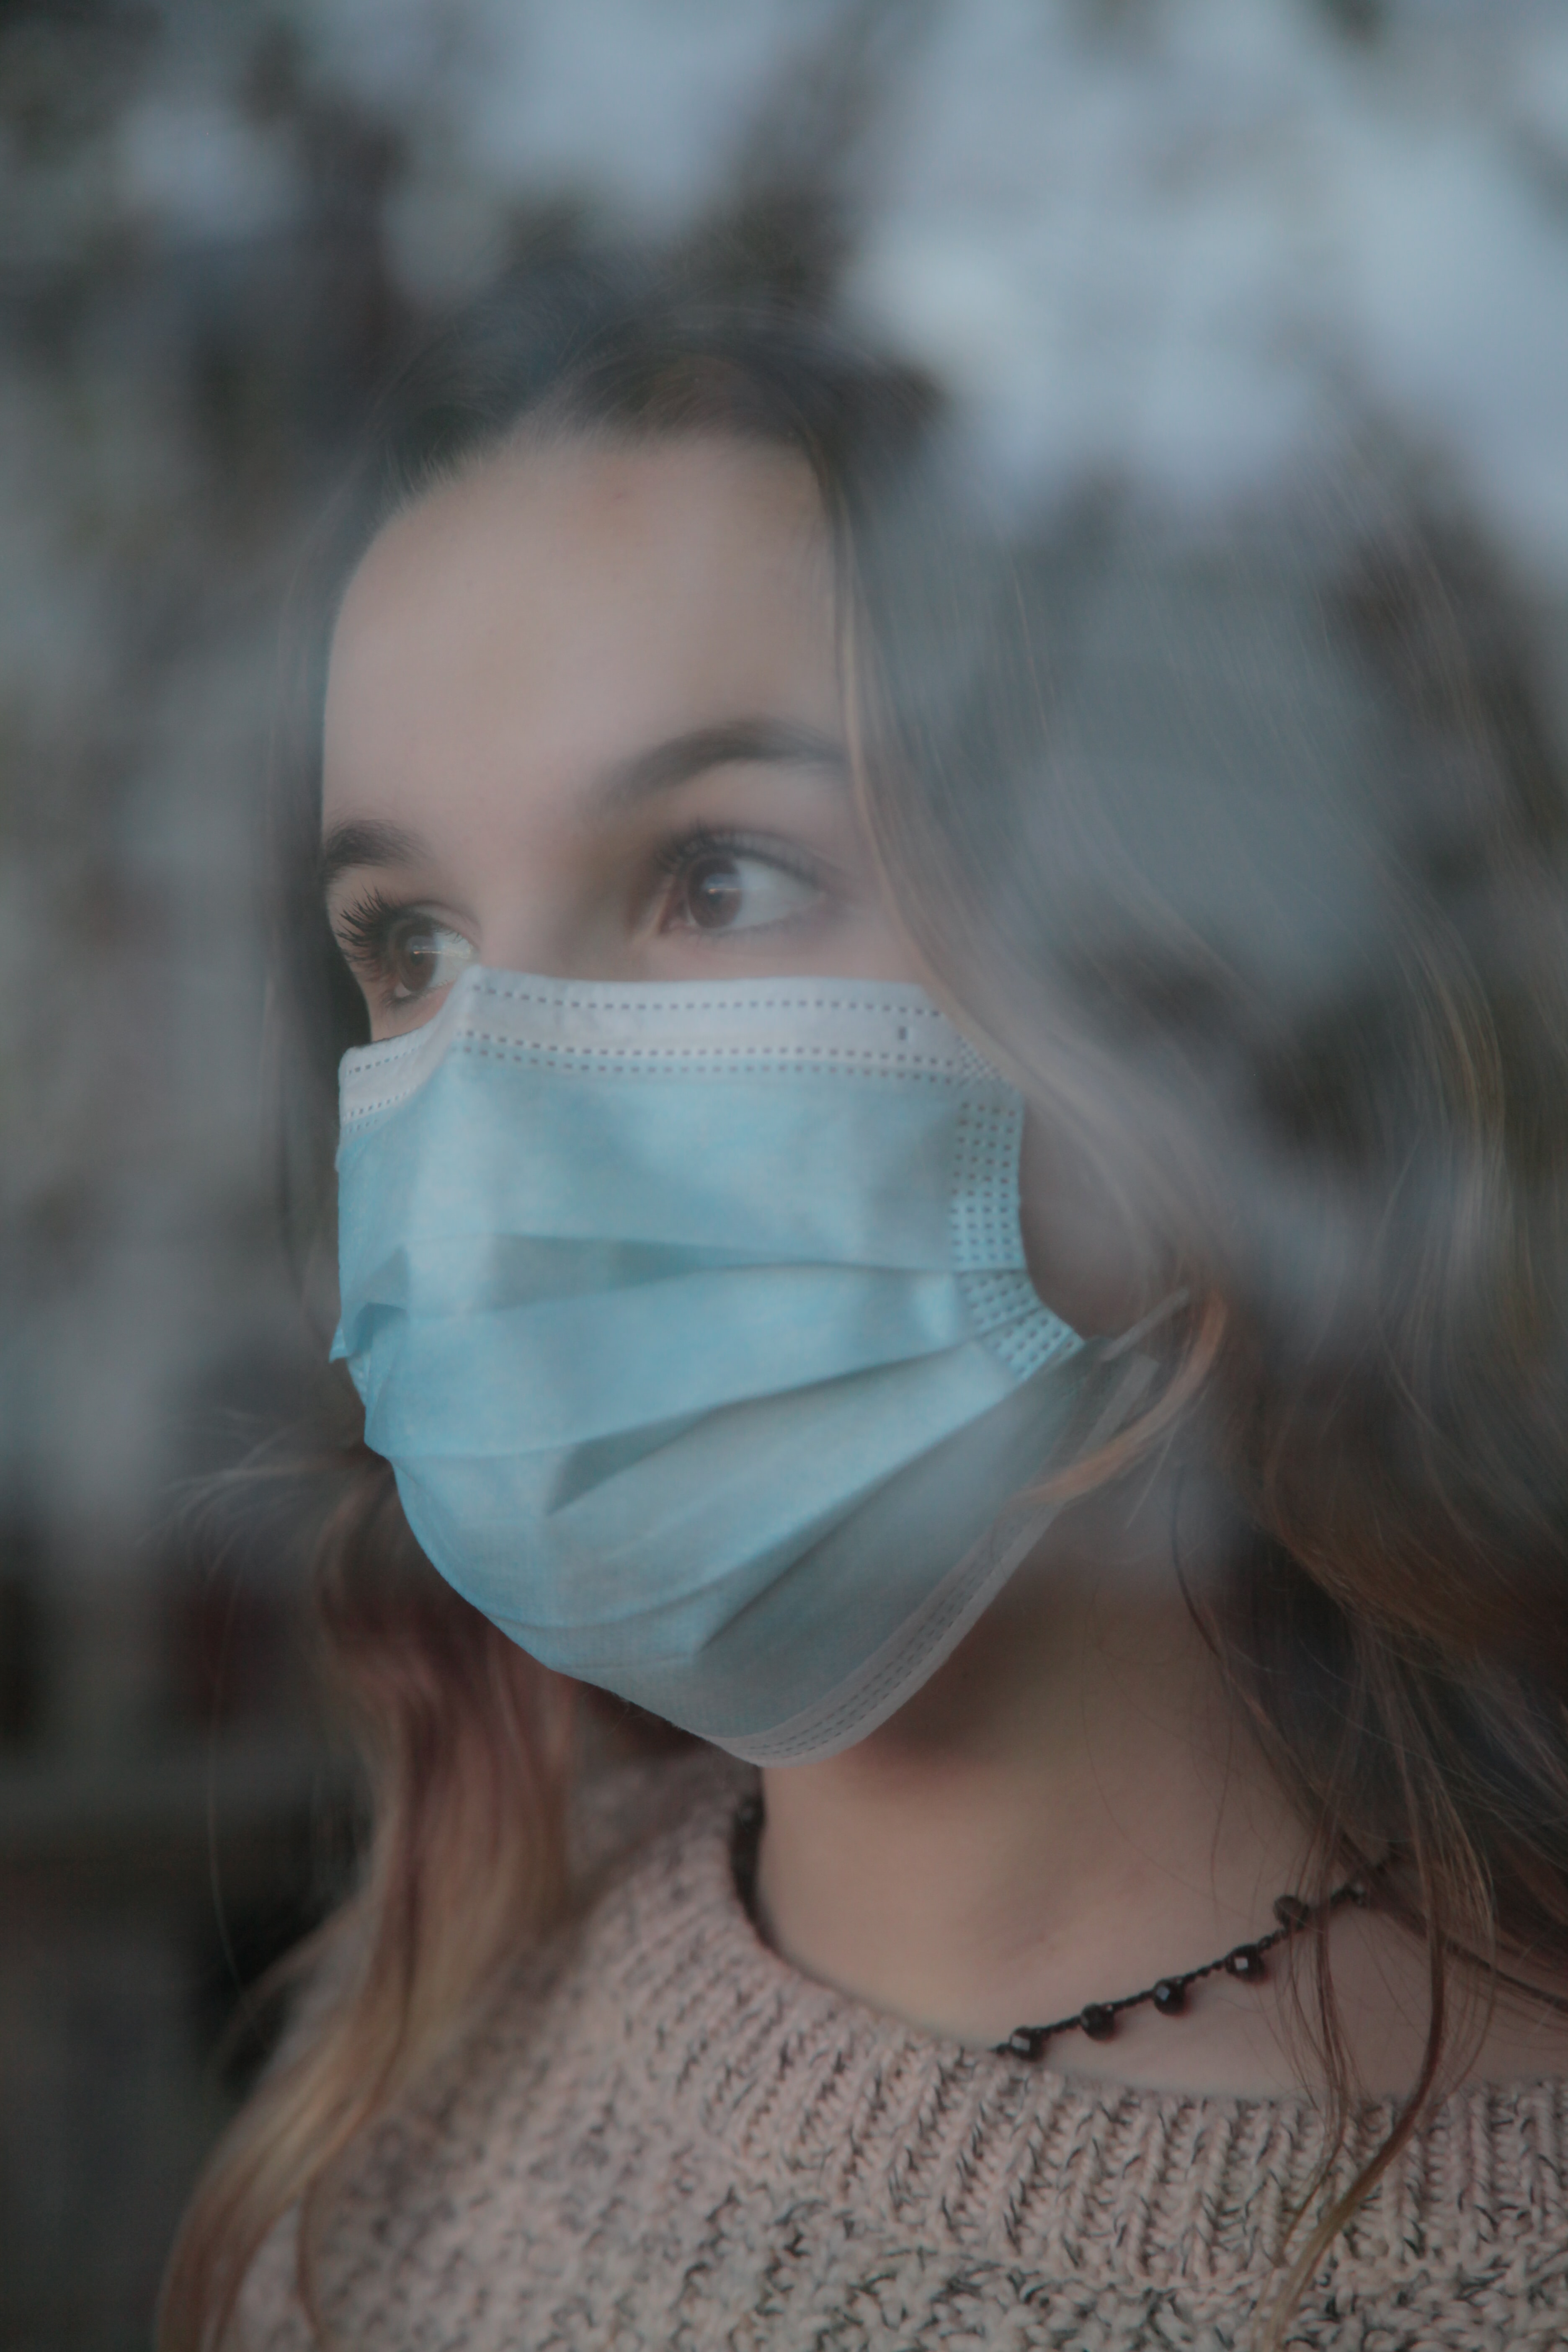mask: (253, 965, 1211, 1782)
person: (114, 274, 1568, 2352)
